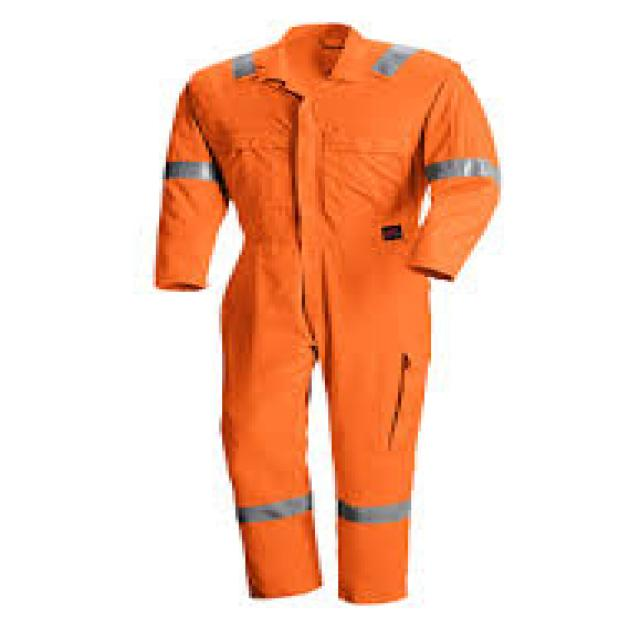vest: (159, 19, 498, 600)
